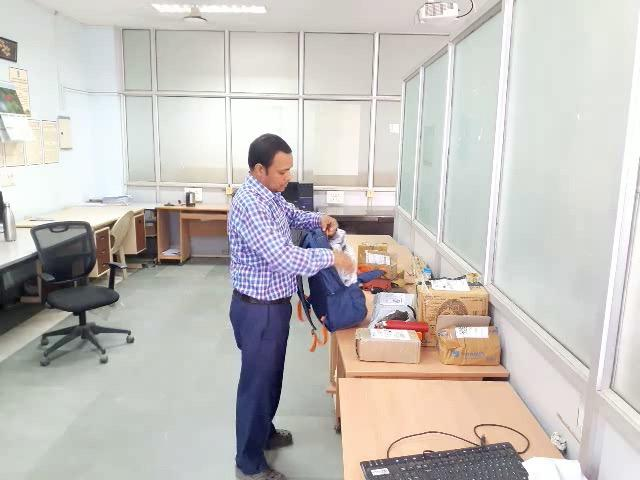shoplifting: (211, 189, 414, 310)
